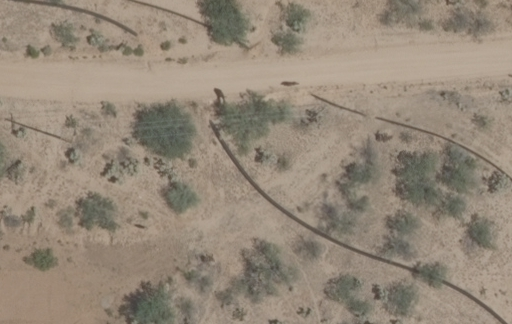DT: (61, 130, 81, 147)
